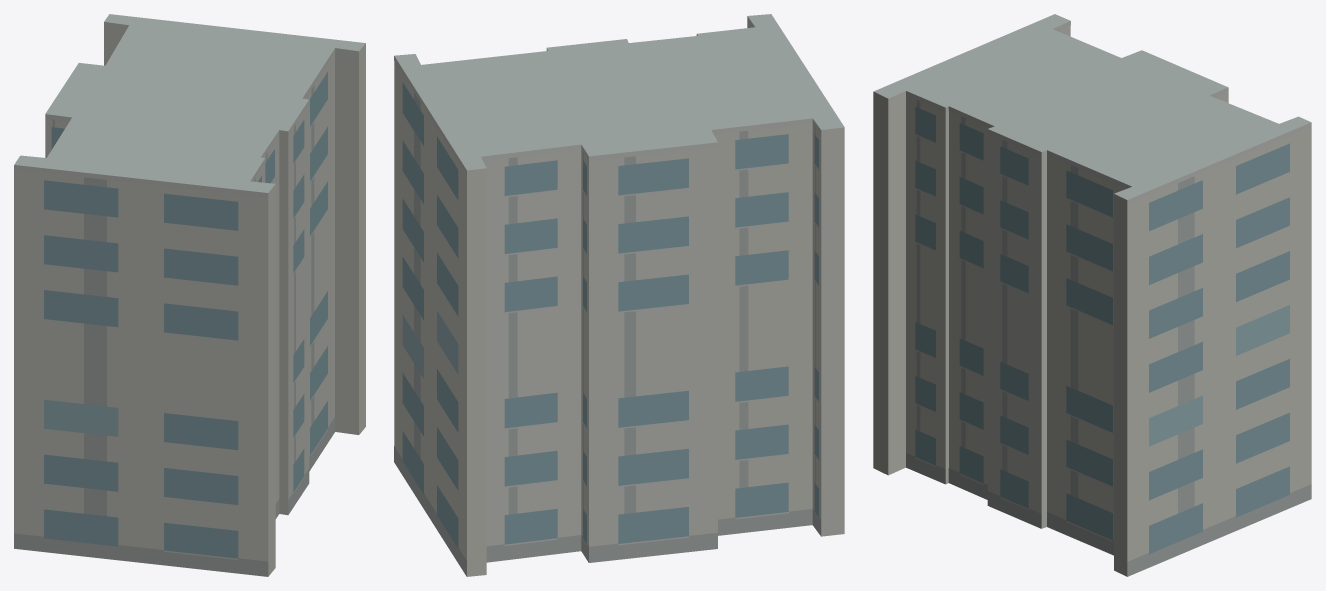
The model's file is survey-upis-32691508.glb.
3 views of the same model, side by side, from view 1: azimuth 30°, elevation 25°; view 2: azimuth 150°, elevation 25°; view 3: azimuth 270°, elevation 25° (orthographic). The views are drawn at different scales.
Visible parts, largest first — view 1: survey-upis-32691508.tmp; view 2: survey-upis-32691508.tmp; view 3: survey-upis-32691508.tmp.
Boxes of the visible parts, x1,y1,x2,y2 form: survey-upis-32691508.tmp: (14,14,365,576); survey-upis-32691508.tmp: (394,14,844,576); survey-upis-32691508.tmp: (873,14,1311,576).
Bounding box in the file's own units: 21.41 × 20.2 × 21.29.
